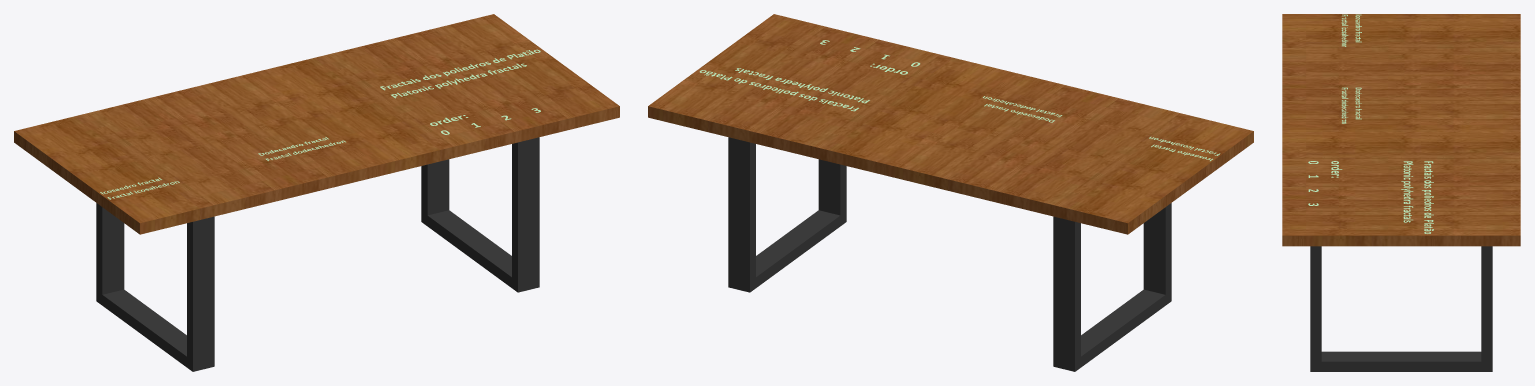
File: fractal_platao2.glb
3 renders of one model, left to right at view 1: azimuth 30°, elevation 25°; view 2: azimuth 150°, elevation 25°; view 3: azimuth 270°, elevation 25°, orthographic. The views are drawn at different scales.
Parts seen in each view (by area): view 1: object 1, Composant#1 (×2), Fractais dos pol; view 2: object 1, Composant#1 (×2), Fractais dos pol; view 3: object 1, Composant#1, Fractais dos pol, Dodecaedro fract, Icosaedro fracta.
Part boxes in pixels (x1,y1,x2,y2): object 1: [14, 14, 619, 234]; Composant#1 (×2): [96, 137, 539, 371]; Fractais dos pol: [380, 49, 540, 98]; object 1: [648, 14, 1253, 234]; Composant#1 (×2): [728, 137, 1171, 371]; Fractais dos pol: [699, 68, 869, 111]; object 1: [1282, 14, 1520, 246]; Composant#1: [1310, 246, 1492, 371]; Fractais dos pol: [1401, 161, 1433, 233]; Dodecaedro fract: [1341, 87, 1361, 123]; Icosaedro fracta: [1341, 14, 1361, 46].
Size of the model in its own units: 2.2 by 0.7711 by 1.
Materials: 3 (1 with a texture image).
